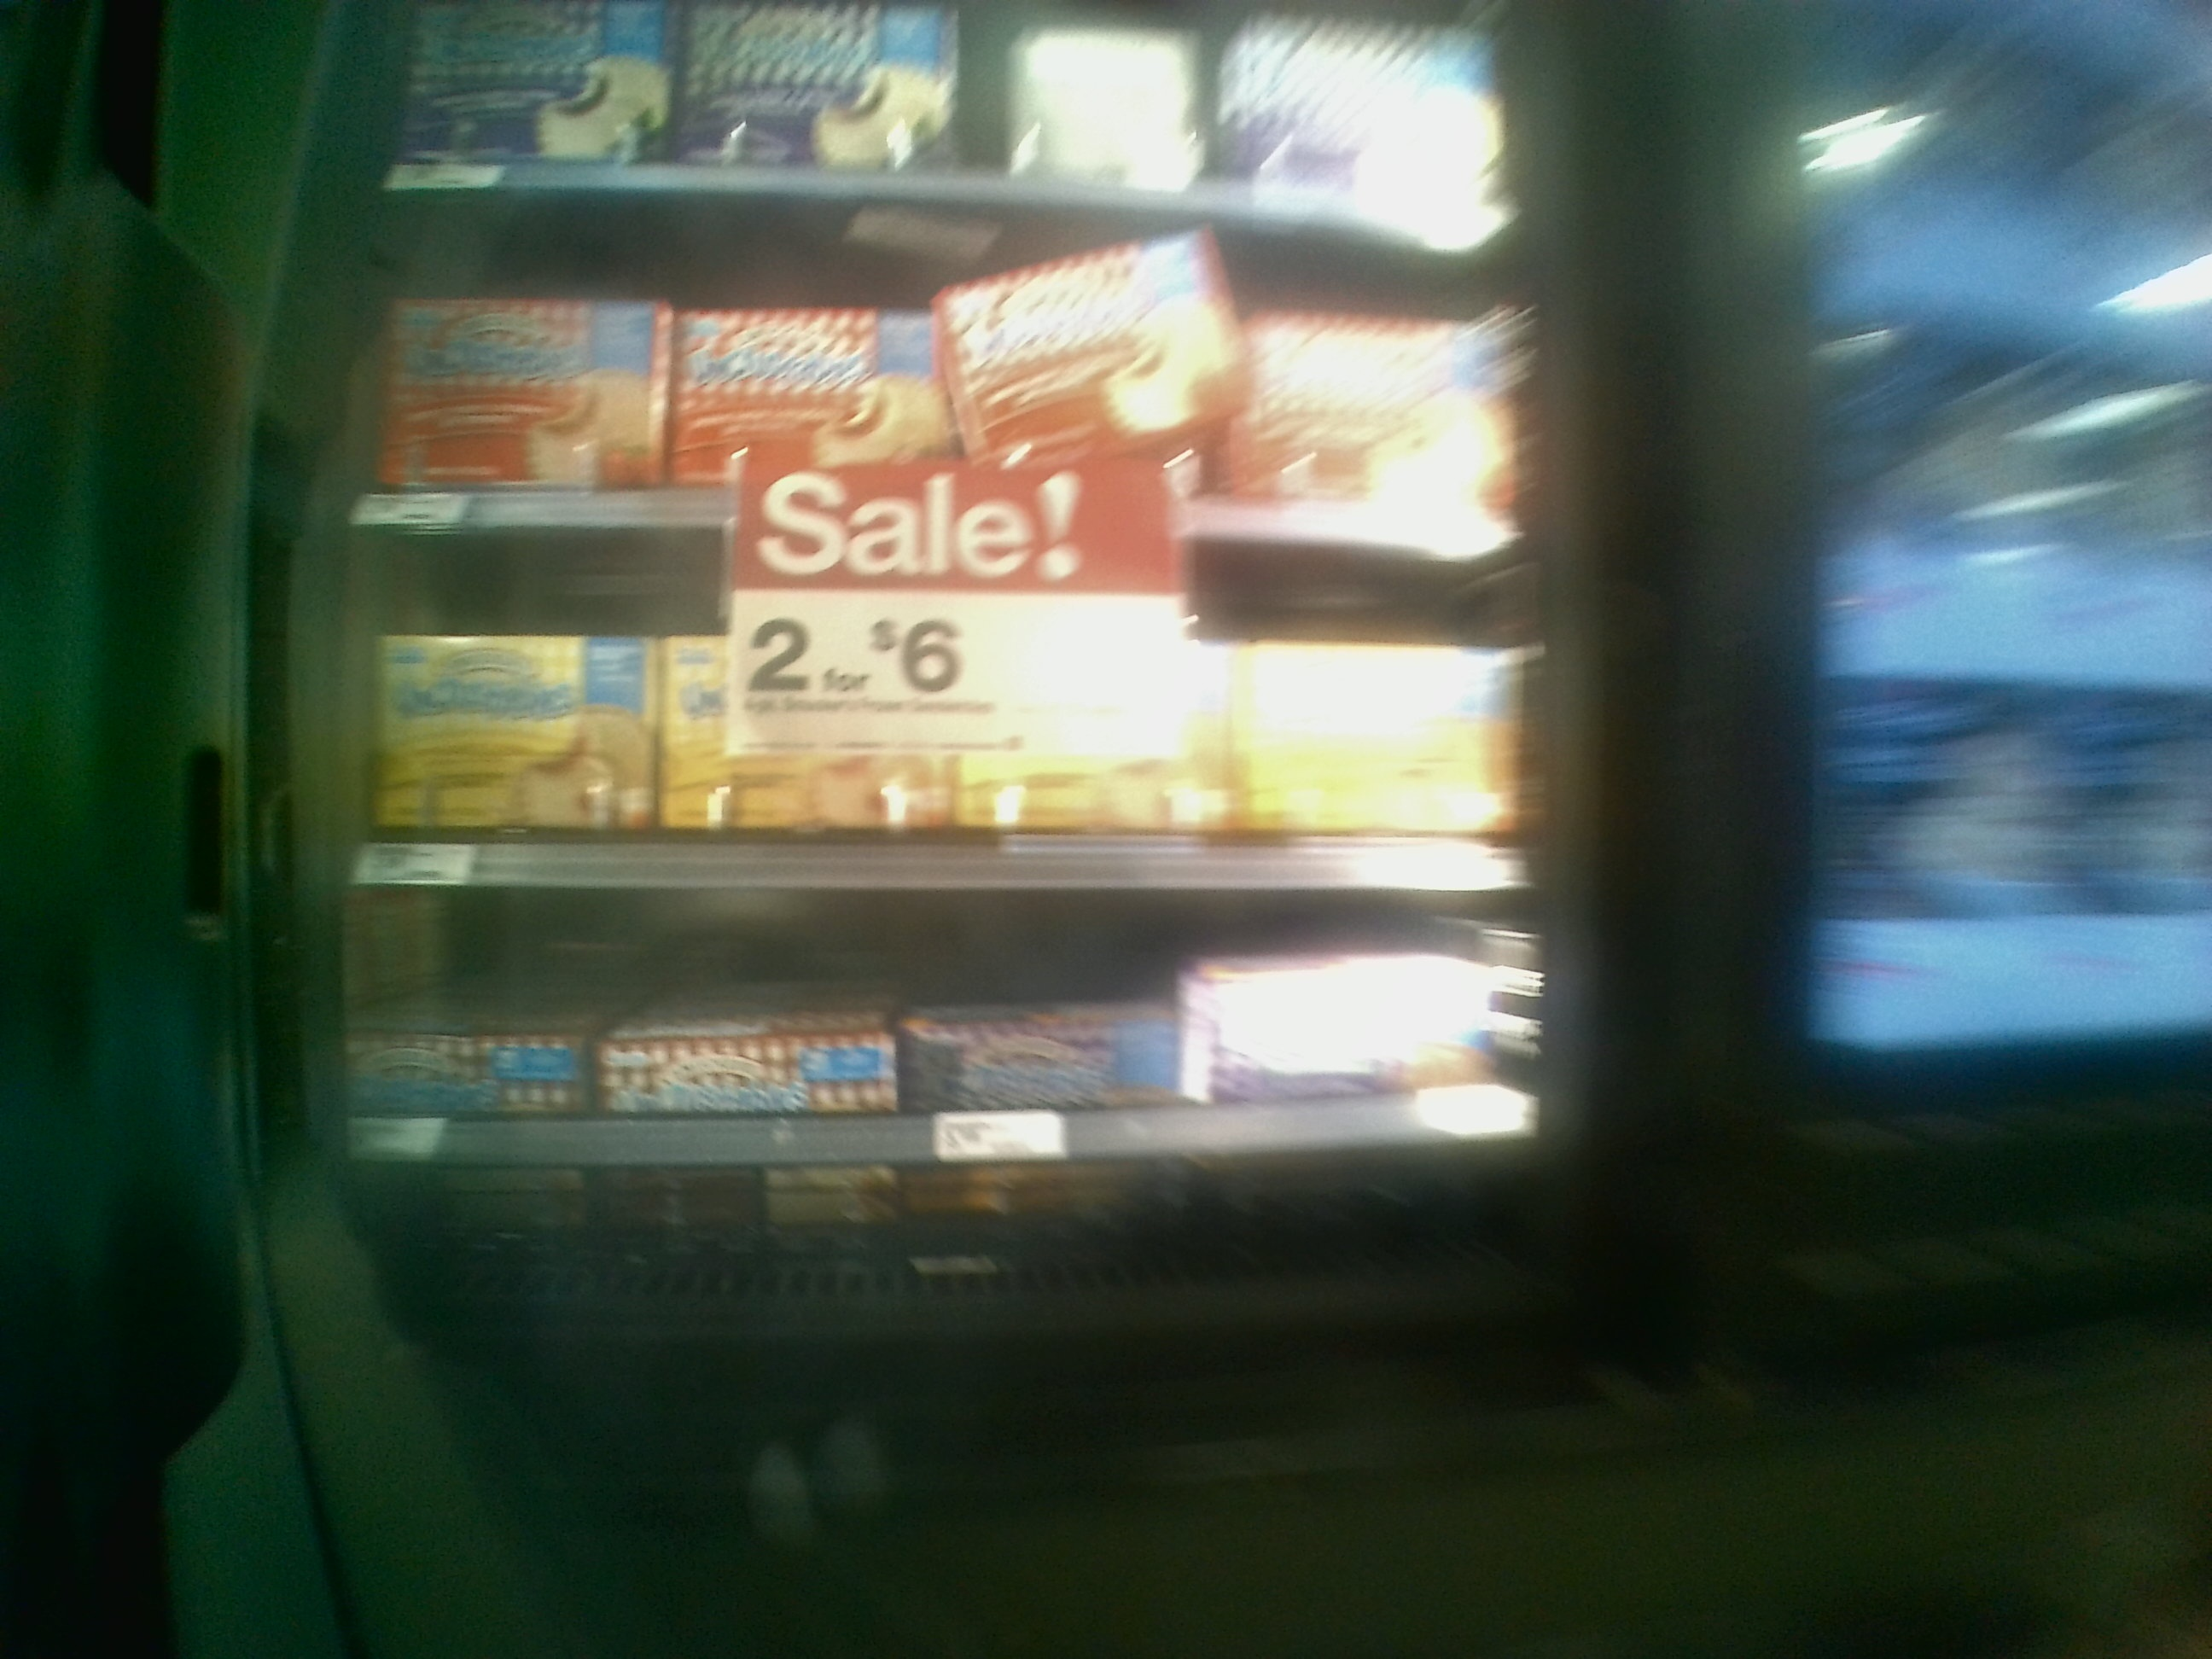shelf: (319, 882, 1554, 1281), (322, 518, 1531, 894), (350, 192, 1524, 551)
